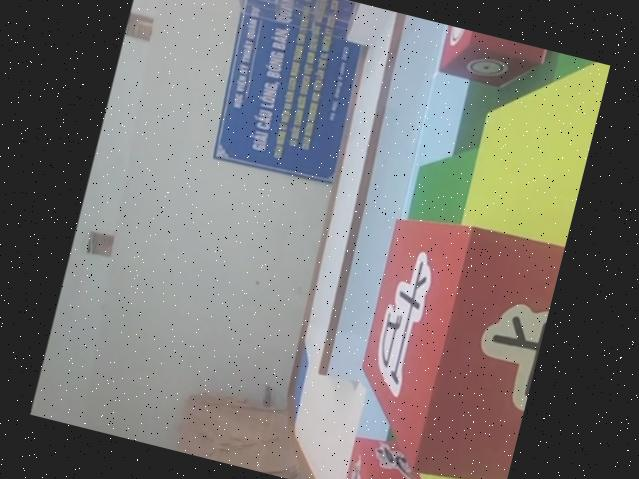R1: (340, 432, 450, 479)
R2 Real: (334, 205, 564, 479), (435, 25, 549, 95)
